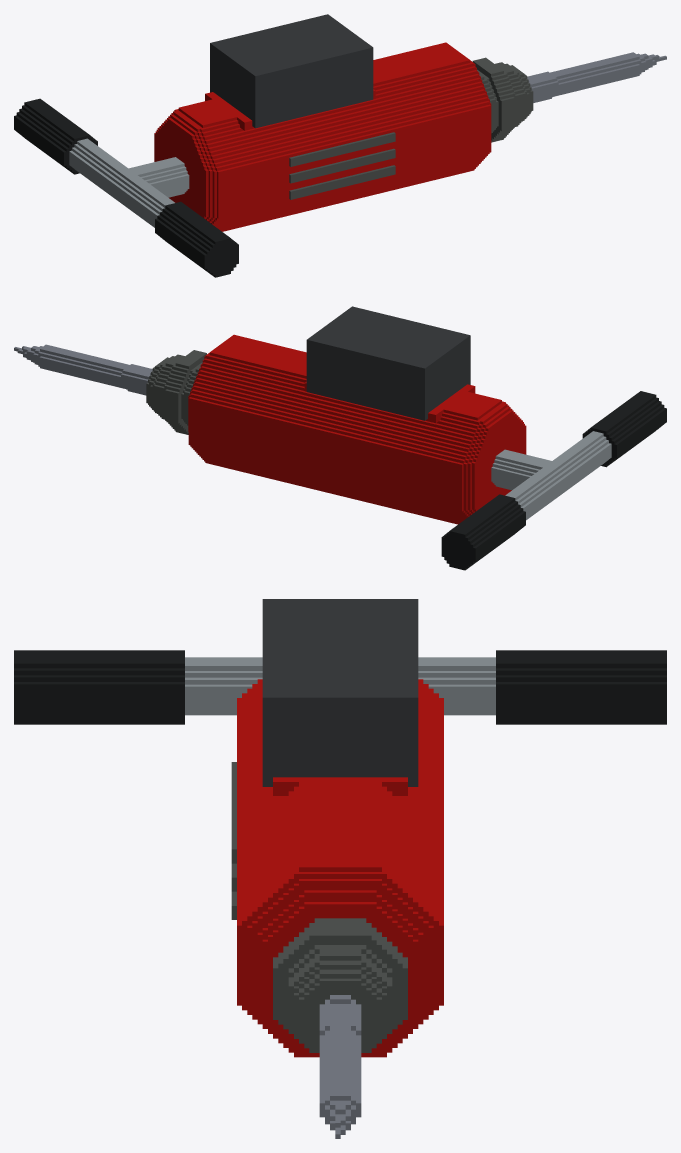
File: elec_jackhammer.glb
3 renders of one model, top to bottom at view 1: azimuth 30°, elevation 25°; view 2: azimuth 150°, elevation 25°; view 3: azimuth 270°, elevation 25°, orthographic. The views are drawn at different scales.
Parts seen in each view (by area): view 1: elec_jackhammer:compound; view 2: elec_jackhammer:compound; view 3: elec_jackhammer:compound.
Part boxes in pixels (x1=…): elec_jackhammer:compound: x1=14, y1=14, x2=666, y2=277; elec_jackhammer:compound: x1=14, y1=306, x2=666, y2=570; elec_jackhammer:compound: x1=14, y1=599, x2=666, y2=1138.
Bounding box in the file's own units: 0.848 × 0.228 × 0.504.
